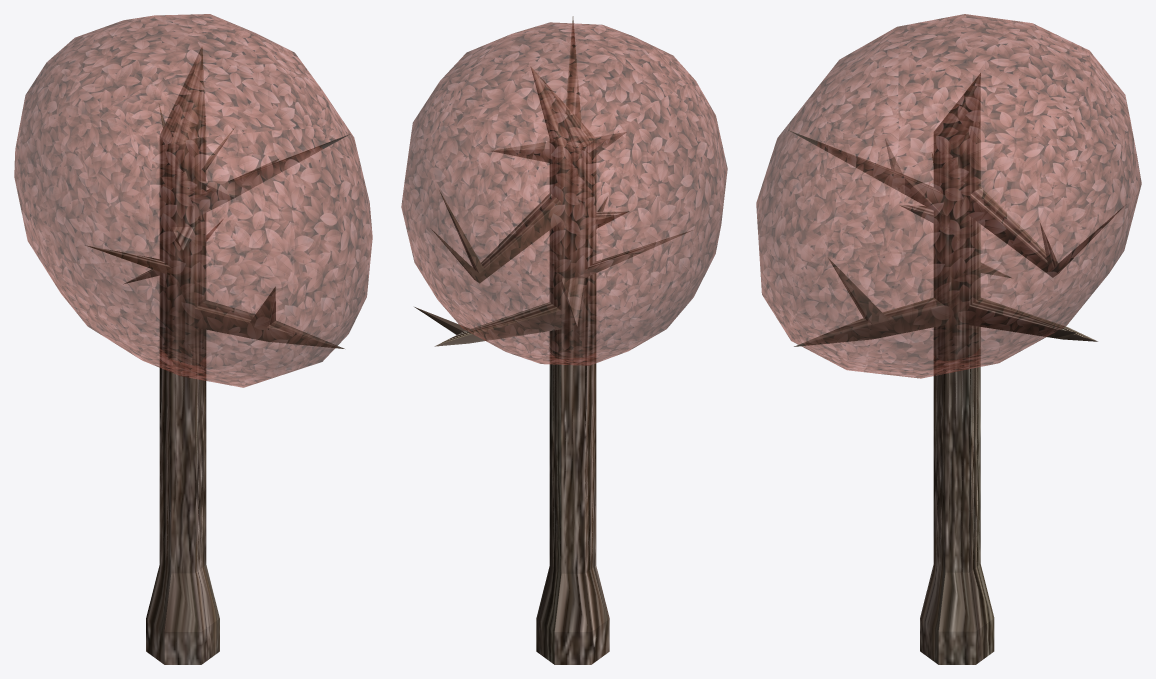
The model's file is TreeLeaves.fbx.
3 renders of one model, left to right at view 1: azimuth 30°, elevation 25°; view 2: azimuth 150°, elevation 25°; view 3: azimuth 270°, elevation 25°, orthographic.
Visible parts, largest first — view 1: Cube, Cylinder.004; view 2: Cube, Cylinder.004; view 3: Cube, Cylinder.004.
Part boxes in pixels (box(x1,y1,x2,y2)): Cube: box(14, 14, 372, 387); Cylinder.004: box(88, 46, 350, 664); Cube: box(401, 22, 727, 365); Cylinder.004: box(414, 16, 692, 664); Cube: box(756, 14, 1141, 378); Cylinder.004: box(788, 73, 1123, 664).
Size of the model in its own units: 245 by 511 by 289.
